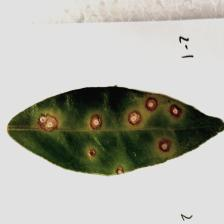canker: (30, 94, 183, 174)
